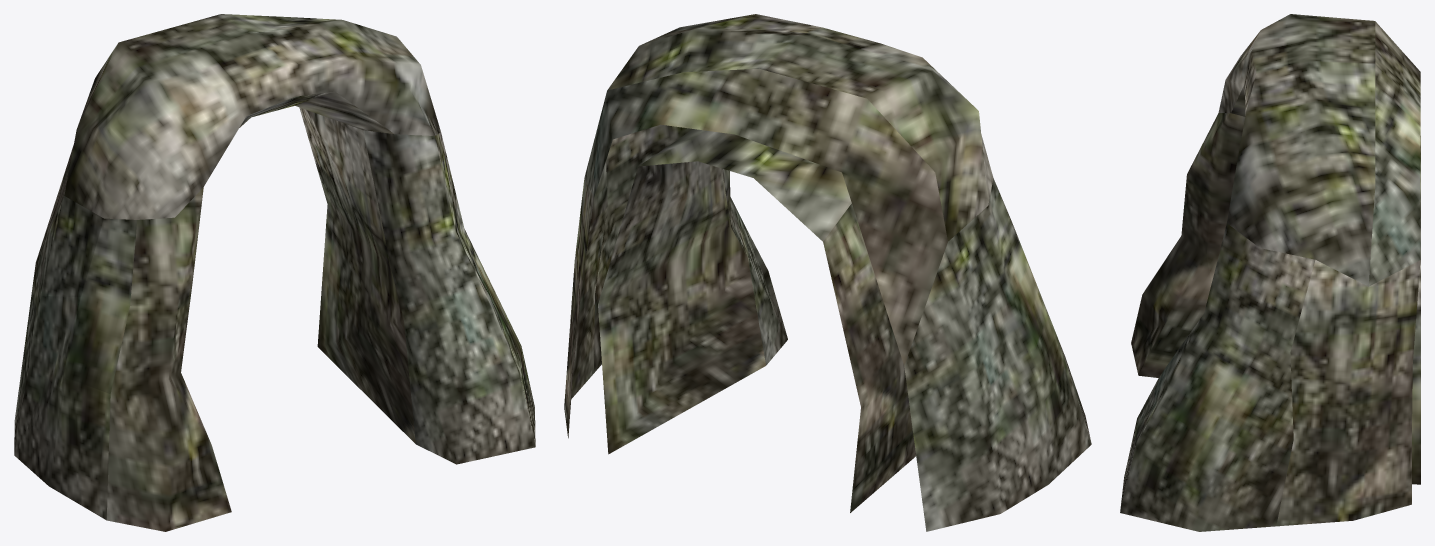
3 renders of one model, left to right at view 1: azimuth 30°, elevation 25°; view 2: azimuth 150°, elevation 25°; view 3: azimuth 270°, elevation 25°, orthographic. The views are drawn at different scales.
Parts seen in each view (by area): view 1: a91; view 2: a91; view 3: a91.
Boxes of the visible parts, box(x1,y1,x2,y2) form: a91: box(14, 14, 535, 531); a91: box(564, 14, 1091, 531); a91: box(1120, 14, 1420, 531).
Size of the model in its own units: 1548 by 1275 by 946.
